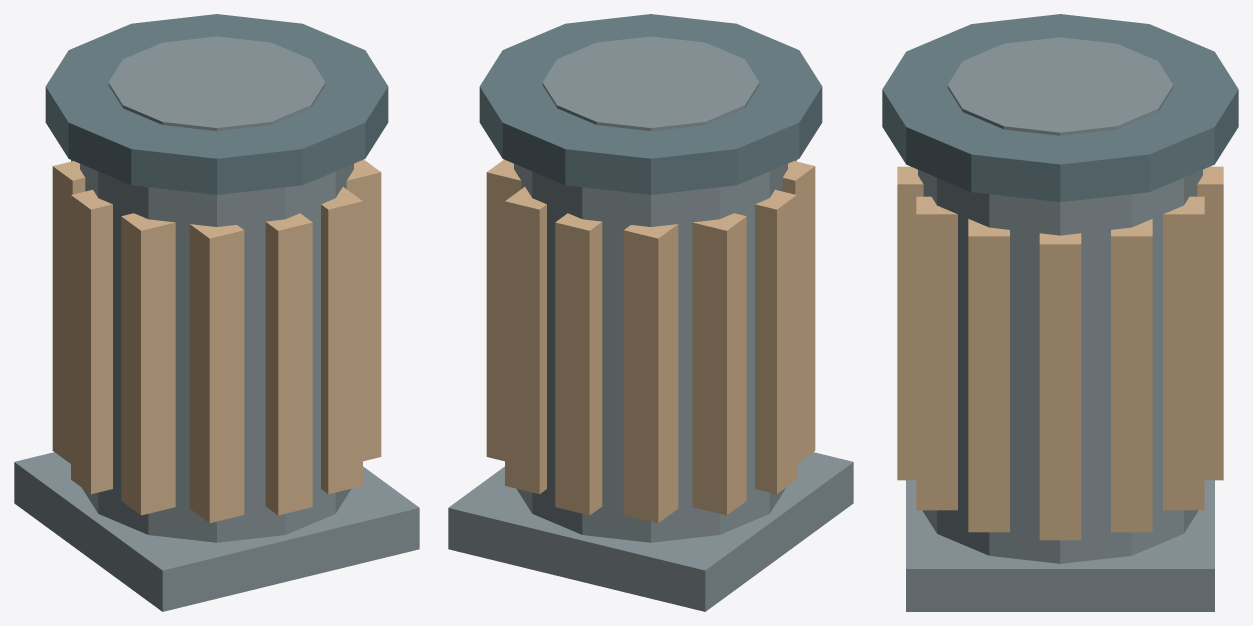
Rendered from bin.glb.
3 views of the same model, side by side, from view 1: azimuth 30°, elevation 25°; view 2: azimuth 150°, elevation 25°; view 3: azimuth 270°, elevation 25° (orthographic). The views are drawn at different scales.
Bounding box in the file's own units: 0.6 × 0.858 × 0.6.
